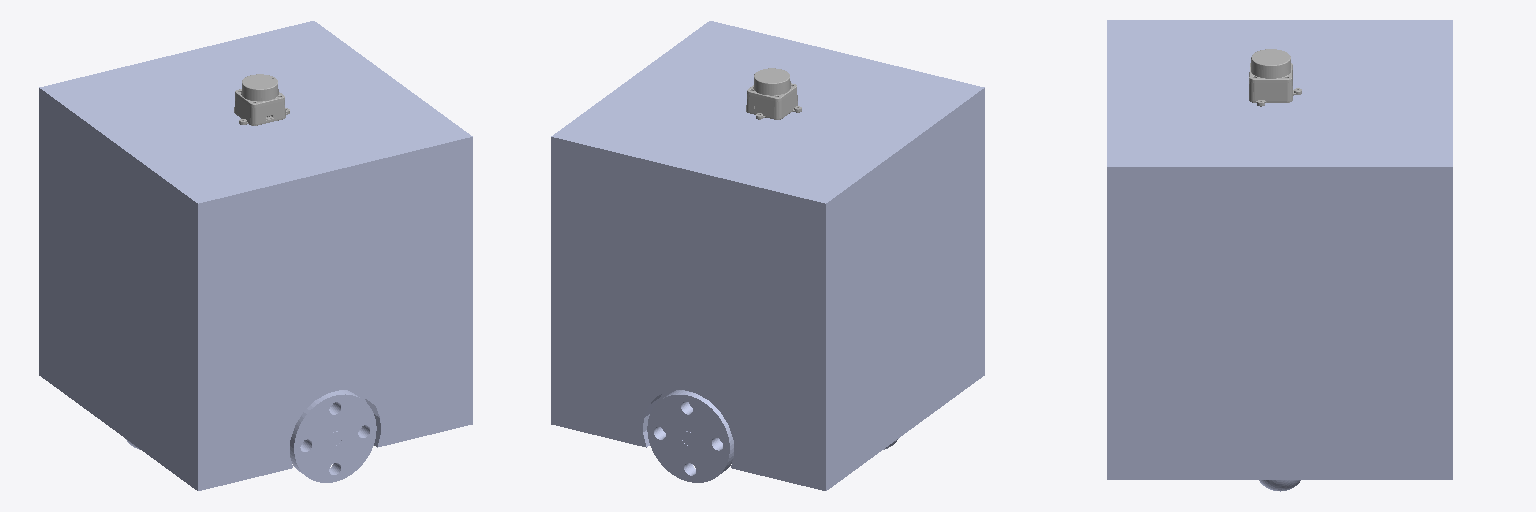
The robot description file, URDF, robot "diffbot":
<?xml version="1.0" encoding="utf-8"?>
<!-- This URDF was automatically created by SolidWorks to URDF Exporter! Originally created by Stephen Brawner (brawner@gmail.com) 
     Commit Version: 1.6.0-4-g7f85cfe  Build Version: 1.6.7995.38578
     For more information, please see http://wiki.ros.org/sw_urdf_exporter -->
<robot
  name="diffbot">
  <link
    name="base_link">
    <inertial>
      <origin
        xyz="3.0864E-17 3.0837E-17 0.15136"
        rpy="0 0 0" />
      <mass
        value="2" />
      <inertia
        ixx="0.39588"
        ixy="3.4212E-17"
        ixz="-1.2166E-18"
        iyy="0.39925"
        iyz="1.5001E-17"
        izz="0.39941" />
    </inertial>
    <visual>
      <origin
        xyz="0 0 0"
        rpy="0 0 0" />
      <geometry>
        <mesh
          filename="package://robot_description/meshes/base_link.STL" />
      </geometry>
      <material
        name="">
        <color
          rgba="0.79216 0.81961 0.93333 1" />
      </material>
    </visual>
    <collision>
      <origin
        xyz="0 0 0"
        rpy="0 0 0" />
      <geometry>
        <mesh
          filename="package://robot_description/meshes/base_link.STL" />
      </geometry>
    </collision>
  </link>
  <link
    name="wheel1">
    <inertial>
      <origin
        xyz="5.9584E-17 4.3021E-16 -0.0075"
        rpy="0 0 0" />
      <mass
        value="0.05" />
      <inertia
        ixx="4.575E-05"
        ixy="-8.0262E-21"
        ixz="-8.9129E-23"
        iyy="4.575E-05"
        iyz="5.0665E-24"
        izz="8.8324E-05" />
    </inertial>
    <visual>
      <origin
        xyz="0 0 0"
        rpy="0 0 0" />
    <geometry>
    <mesh
      filename="package://robot_description/meshes/wheel1.STL" />
    </geometry>
      <material
        name="">
        <color
          rgba="0.79216 0.81961 0.93333 1" />
      </material>
    </visual>
    <collision>
      <origin
        xyz="0 0 0"
        rpy="0 0 0" />
      <geometry>
        <mesh
          filename="package://robot_description/meshes/wheel1.STL" />
      </geometry>
    </collision>
  </link>
  <joint
    name="body_wheel1"
    type="fixed">
    <origin
      xyz="0 0.135 0.02"
      rpy="1.5708 0 0" />
    <parent
      link="base_link" />
    <child
      link="wheel1" />
    <axis
      xyz="0 0 0" />
  </joint>
  <link
    name="wheel2">
    <inertial>
      <origin
        xyz="8.2833E-17 4.4062E-16 0.0075"
        rpy="0 0 0" />
      <mass
        value="0.05" />
      <inertia
        ixx="4.575E-05"
        ixy="4.4189E-22"
        ixz="-2.068E-23"
        iyy="4.575E-05"
        iyz="2.068E-23"
        izz="8.8324E-05" />
    </inertial>
    <visual>
      <origin
        xyz="0 0 0"
        rpy="0 0 0" />
    <geometry>
      <mesh
      filename="package://robot_description/meshes/wheel2.STL" />
    </geometry>
      <material
        name="">
        <color
          rgba="0.79216 0.81961 0.93333 1" />
      </material>
    </visual>
    <collision>
      <origin
        xyz="0 0 0"
        rpy="0 0 0" />
      <geometry>
        <mesh
          filename="package://robot_description/meshes/wheel2.STL" />
      </geometry>
    </collision>
  </link>
  <joint
    name="body_wheel2"
    type="fixed">
    <origin
      xyz="0 -0.135 0.02"
      rpy="1.5708 0 0" />
    <parent
      link="base_link" />
    <child
      link="wheel2" />
    <axis
      xyz="0 0 0" />
  </joint>
  <link
    name="ball1">
    <inertial>
      <origin
        xyz="1.3878E-17 0 6.4701E-17"
        rpy="0 0 0" />
      <mass
        value="0.05" />
      <inertia
        ixx="9.6619E-06"
        ixy="1.3336E-54"
        ixz="0"
        iyy="9.6619E-06"
        iyz="0"
        izz="9.6619E-06" />
    </inertial>
    <visual>
      <origin
        xyz="0 0 0"
        rpy="0 0 0" />
      <geometry>
        <mesh
          filename="package://robot_description/meshes/ball1.STL" />
      </geometry>
      <material
        name="">
        <color
          rgba="0.79216 0.81961 0.93333 1" />
      </material>
    </visual>
    <collision>
      <origin
        xyz="0 0 0"
        rpy="0 0 0" />
      <geometry>
        <mesh
          filename="package://robot_description/meshes/ball1.STL" />
      </geometry>
    </collision>
  </link>
  <joint
    name="body_ball1"
    type="fixed">
    <origin
      xyz="-0.12 0 0"
      rpy="1.5708 0 0" />
    <parent
      link="base_link" />
    <child
      link="ball1" />
    <axis
      xyz="0 0 0" />
  </joint>
  <link
    name="ball2">
    <inertial>
      <origin
        xyz="-1.3878E-17 0 5.1665E-19"
        rpy="0 0 0" />
      <mass
        value="0.05" />
      <inertia
        ixx="9.6619E-06"
        ixy="0"
        ixz="0"
        iyy="9.6619E-06"
        iyz="0"
        izz="9.6619E-06" />
    </inertial>
    <visual>
      <origin
        xyz="0 0 0"
        rpy="0 0 0" />
    <geometry>
      <mesh
      filename="package://robot_description/meshes/ball2.STL" />
    </geometry>
      <material
        name="">
        <color
          rgba="0.79216 0.81961 0.93333 1" />
      </material>
    </visual>
    <collision>
      <origin
        xyz="0 0 0"
        rpy="0 0 0" />
      <geometry>
        <mesh
          filename="package://robot_description/meshes/ball2.STL" />
      </geometry>
    </collision>
  </link>
  <joint
    name="body_ball2"
    type="fixed">
    <origin
      xyz="0.12 0 0"
      rpy="1.5708 0 0" />
    <parent
      link="base_link" />
    <child
      link="ball2" />
    <axis
      xyz="0 0 0" />
  </joint>
  <link
    name="ld19">
    <inertial>
      <origin
        xyz="7.857E-05 -9.8109E-05 0.011224"
        rpy="0 0 0" />
      <mass
        value="0.01" />
      <inertia
        ixx="2.139E-06"
        ixy="3.3875E-08"
        ixz="4.1899E-09"
        iyy="2.2143E-06"
        iyz="-4.8463E-09"
        izz="3.8781E-06" />
    </inertial>
    <visual>
      <origin
        xyz="0 0 0"
        rpy="0 0 0" />
      <geometry>
        <mesh
          filename="package://robot_description/meshes/ld19.STL" />
      </geometry>
      <material
        name="">
        <color
          rgba="0.75294 0.75294 0.75294 1" />
      </material>
    </visual>
    <collision>
      <origin
        xyz="0 0 0"
        rpy="0 0 0" />
      <geometry>
        <mesh
          filename="package://robot_description/meshes/ld19.STL" />
      </geometry>
    </collision>
  </link>
  <joint
    name="body_ld19"
    type="fixed">
    <origin
      xyz="-3.3623E-05 -0.0077057 0.3002"
      rpy="0 0 3.1329" />
    <parent
      link="base_link" />
    <child
      link="ld19" />
    <axis
      xyz="0 0 0" />
  </joint>
</robot>

--- Facts derived from the render (not from the file) ---
The picture shows the robot from 3 angles, left to right: view 1: azimuth 30°, elevation 25°; view 2: azimuth 150°, elevation 25°; view 3: azimuth 270°, elevation 25°; orthographic projection.
Model diffbot with 6 links and 5 joints (5 fixed), rooted at base_link, posed all joints at 0.
Visible links, largest first — view 1: base_link, wheel2, ld19; view 2: base_link, wheel1, ld19; view 3: base_link, ld19.
Boxes of the visible links, x1=… form: base_link: x1=39, y1=21, x2=472, y2=490; wheel2: x1=290, y1=390, x2=376, y2=482; ld19: x1=234, y1=74, x2=289, y2=125; base_link: x1=551, y1=21, x2=984, y2=490; wheel1: x1=647, y1=390, x2=733, y2=482; ld19: x1=746, y1=68, x2=801, y2=119; base_link: x1=1107, y1=20, x2=1452, y2=479; ld19: x1=1249, y1=49, x2=1301, y2=106.
Size in the robot's own frame: 0.3 by 0.3 by 0.3598 metres.
6 mesh visuals loaded from 6 distinct referenced files (6 binary STL).
